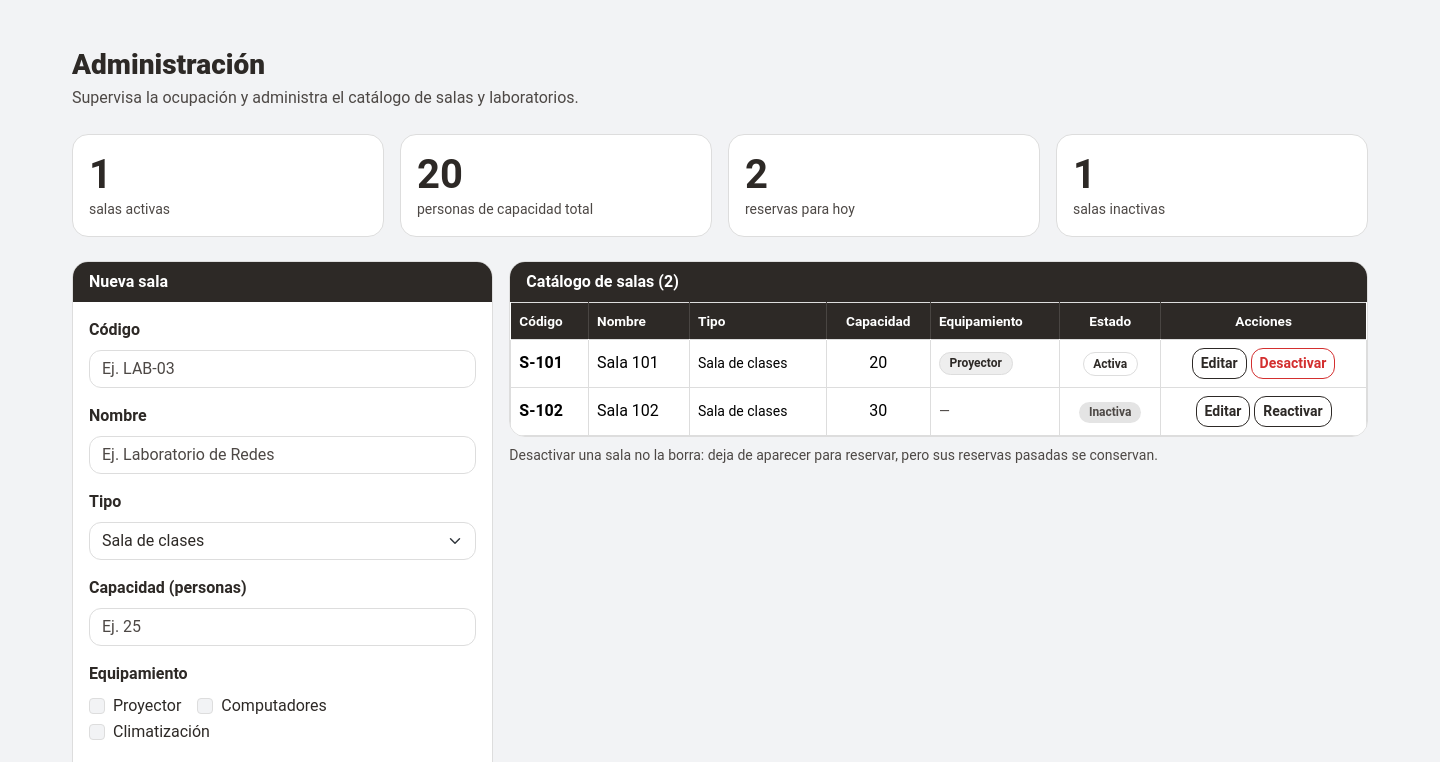
Página Administración › desactiva una sala activa solo después de confirmar
Expected: the text "Sala 101" is shown, [588,340,690,388]
Click the button with aria-label "Desactivar Sala 101" at (1293, 364), box [1251,348,1335,379]
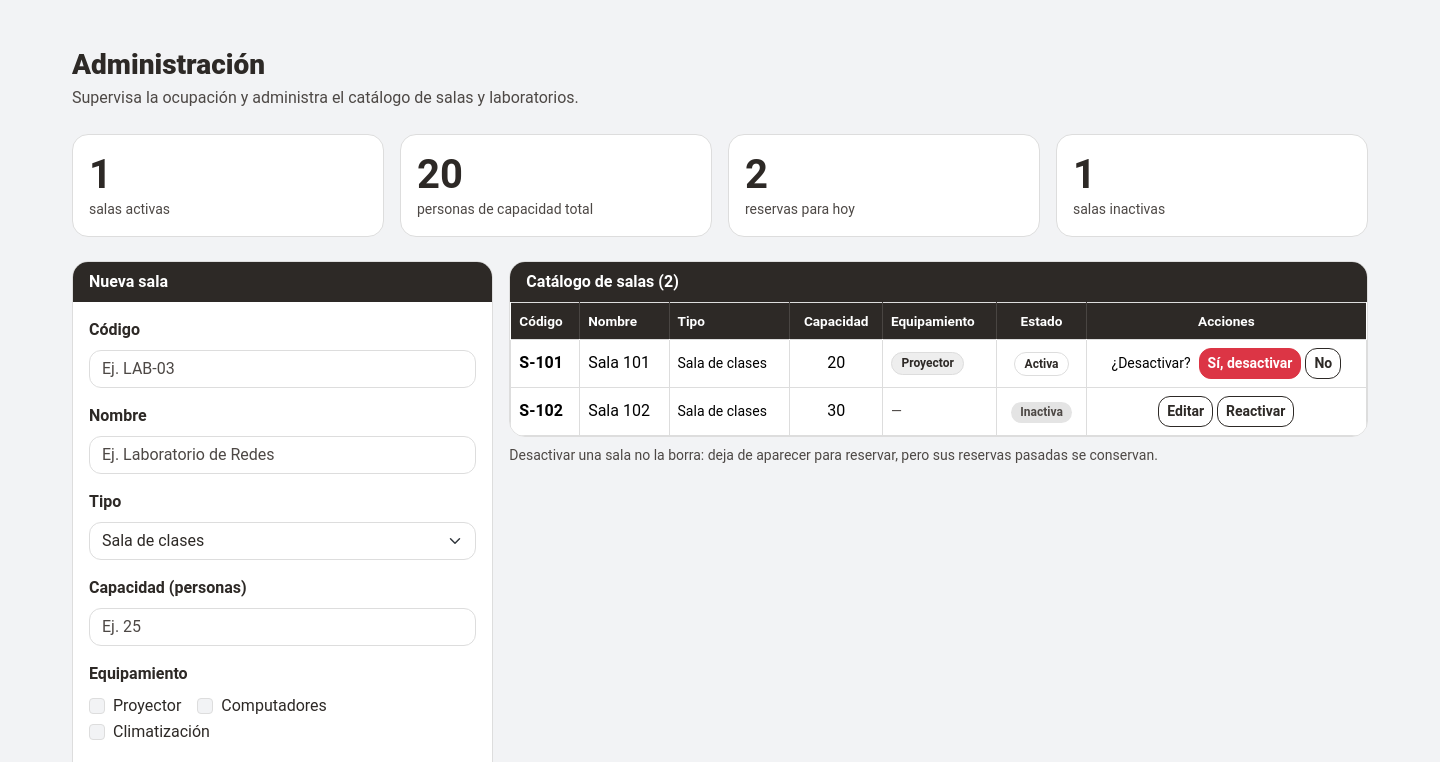
Click the button "Sí, desactivar" at (1250, 364), box [1199,348,1302,379]
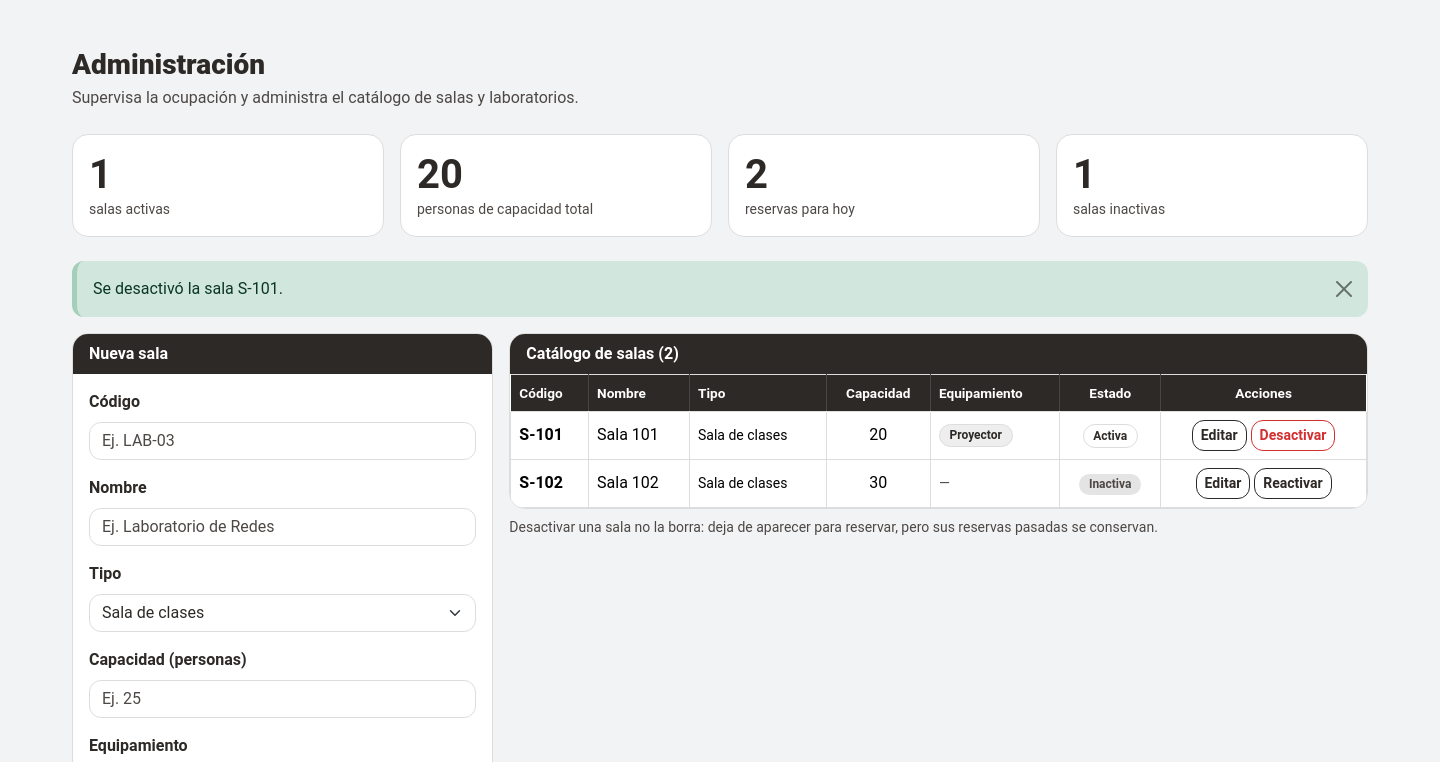
Expected: the text "Se desactivó la sala S-101." is shown, [72,261,1368,317]
